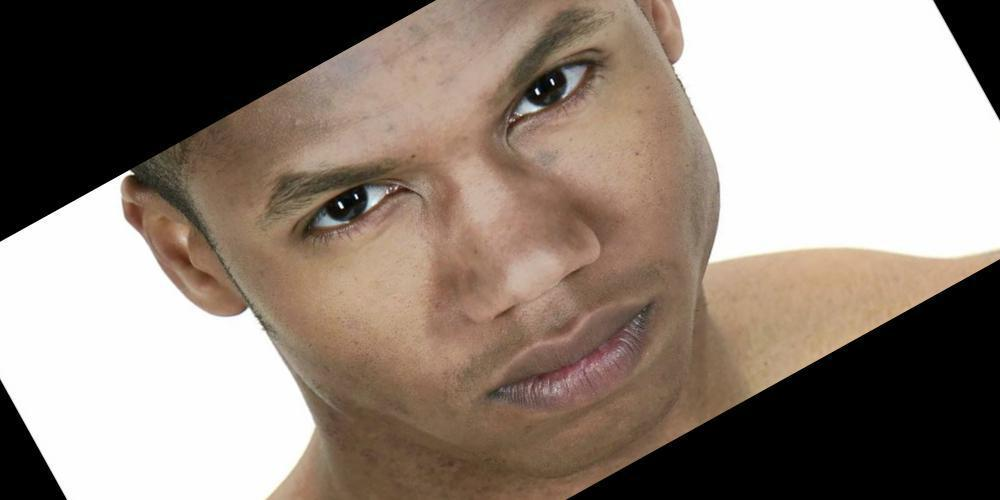Sober: (245, 94, 711, 424)
